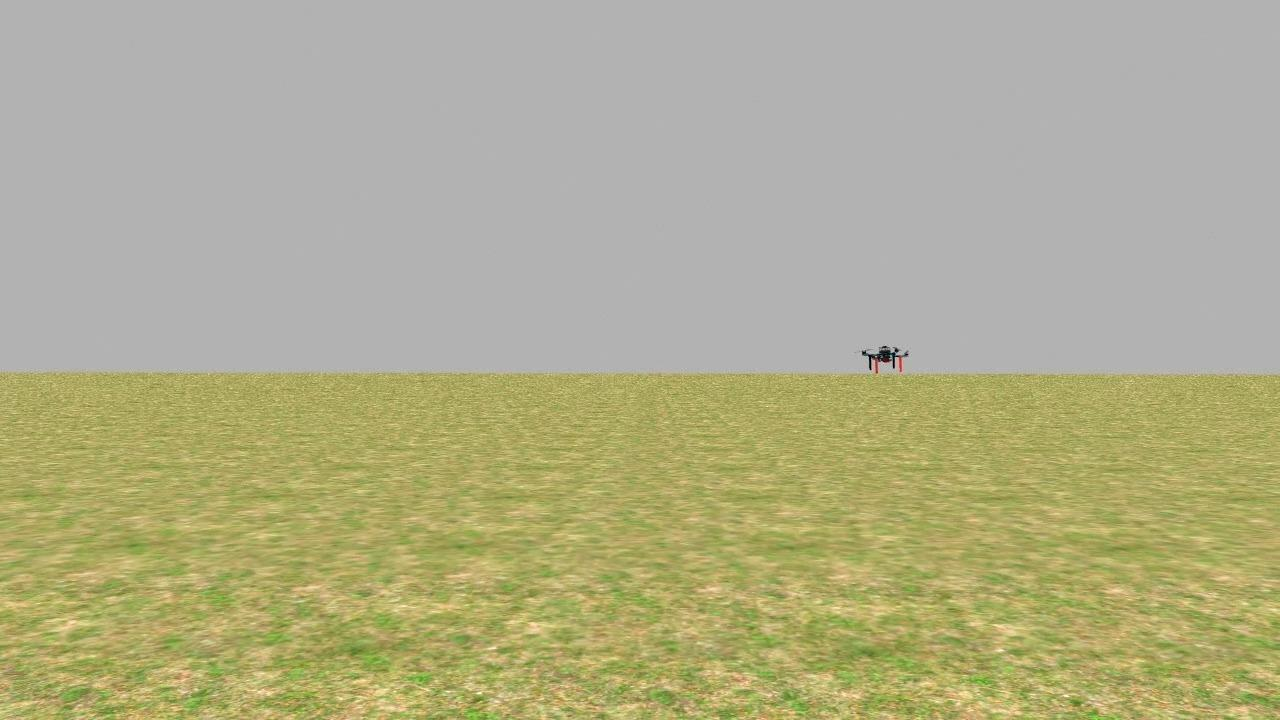UAV: (846, 330, 928, 383)
